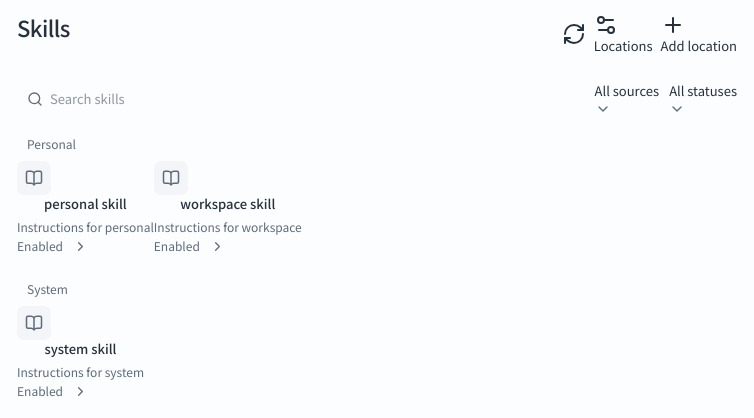
clearing skill filters restores All sources including system skills
Expected: the button with aria-label "Open personal skill" is shown, [17,161,154,256]
Click the dropdown named "Skill scope" at (627, 99), box [595,82,659,117]
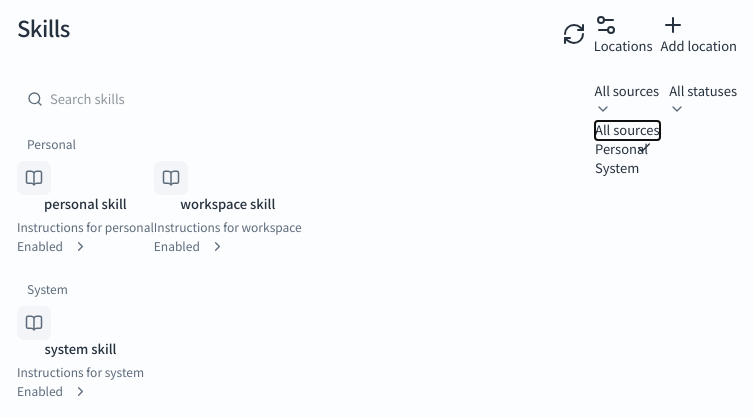
Click the option "System" at (617, 168), box [595,160,639,176]
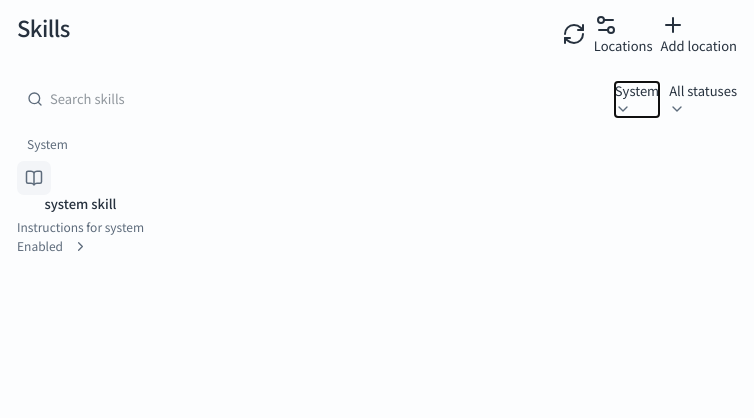
Type "missing" into the field labelled "Search skills" at (106, 99), box [17,90,195,109]
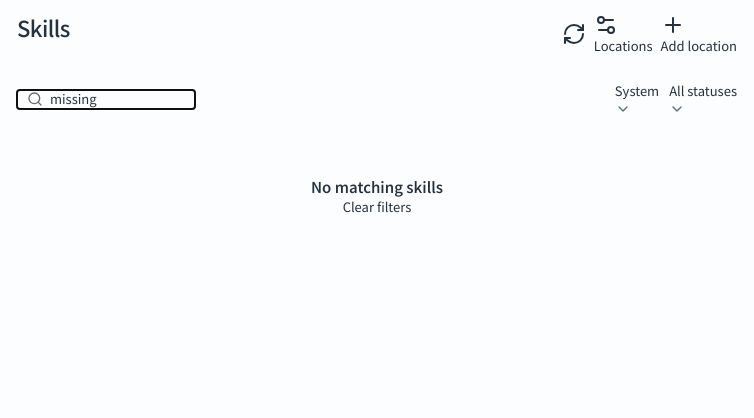
Click the button "Clear filters" at (377, 208), box [343,198,411,217]
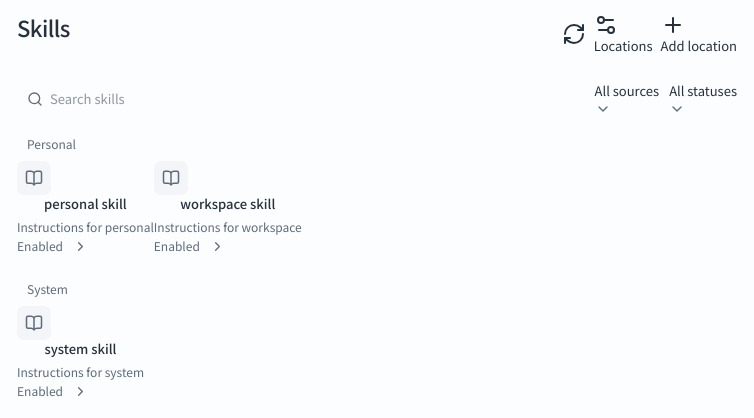
Result: the text "All sources" is shown at [595,83,659,99]
Result: the button with aria-label "Open personal skill" is shown at [17,161,154,256]
Result: the button with aria-label "Open workspace skill" is shown at [154,161,302,256]
